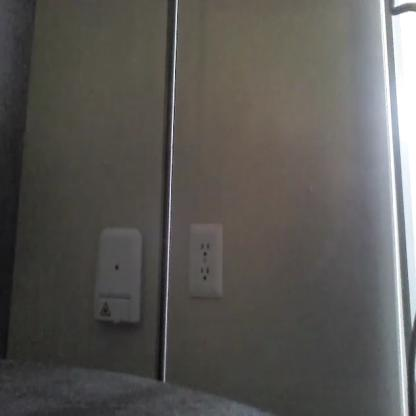OUTLET: (188, 223, 223, 295)
